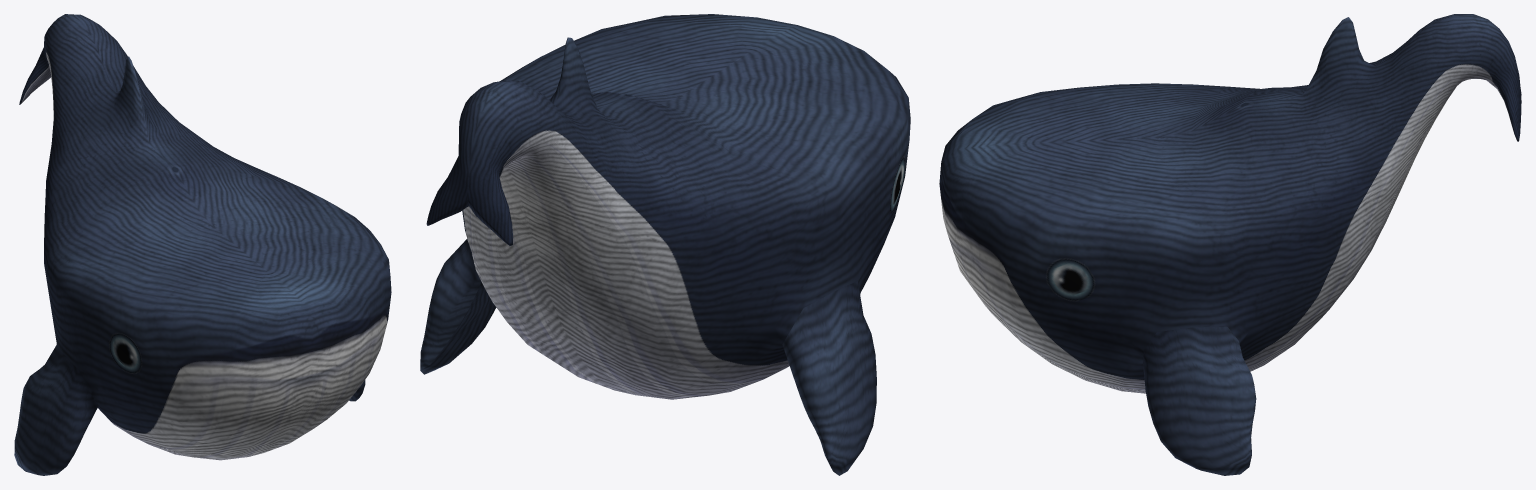
File: CRT0110004.FBX
3 renders of one model, left to right at view 1: azimuth 30°, elevation 25°; view 2: azimuth 150°, elevation 25°; view 3: azimuth 270°, elevation 25°, orthographic. The views are drawn at different scales.
Visible parts, largest first — view 1: smCRT0110004; view 2: smCRT0110004; view 3: smCRT0110004.
Part boxes in pixels (bbox=[...]): smCRT0110004: bbox=[14, 14, 391, 475]; smCRT0110004: bbox=[420, 14, 910, 475]; smCRT0110004: bbox=[939, 14, 1521, 475].
Bounding box in the file's own units: 0.2199 × 0.2199 × 0.3104.
1 material, 1 textured.
